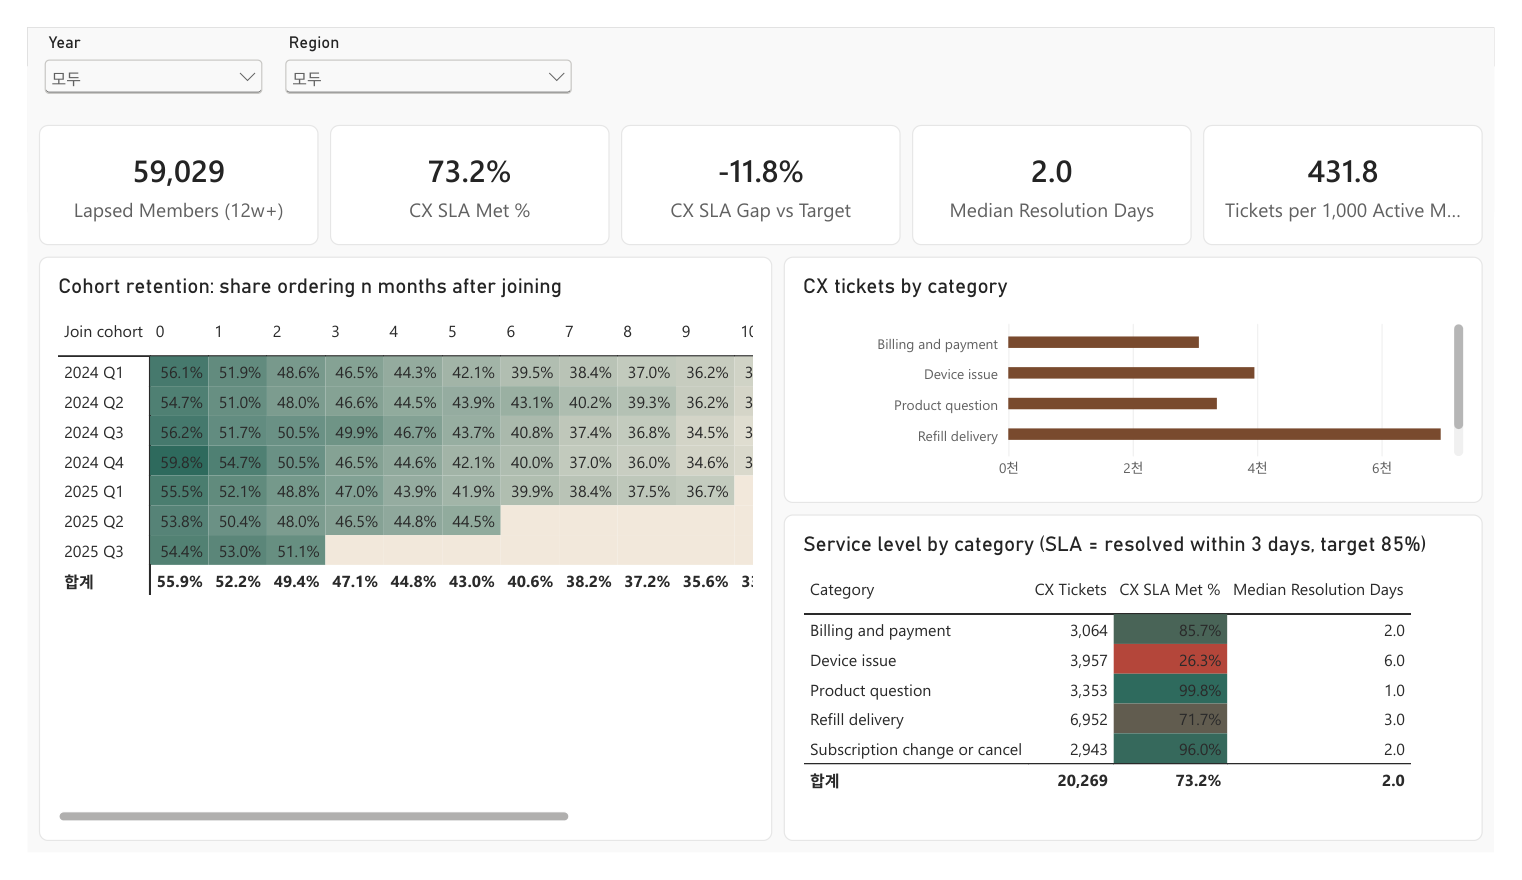

This screenshot's page, from the dashboard's own definition file:
{"tool":"powerbi","page":{"name":"3 Retention and CX","canvas":[1280,720],"ordinal":2},"visuals":[{"type":"slicer","fields":{"Values":["Dim Week.iso_year"]},"box":[10,5,200,75],"z":0},{"type":"slicer","fields":{"Values":["Dim Region.region_name"]},"box":[220,5,260,75],"z":1000},{"type":"card","fields":{"Values":["_Measures.Lapsed Members (12w+)"]},"box":[10,85,244,105],"z":2000},{"type":"card","fields":{"Values":["_Measures.CX SLA Met %"]},"box":[264,85,244,105],"z":3000},{"type":"card","fields":{"Values":["_Measures.CX SLA Gap vs Target"]},"box":[518,85,244,105],"z":4000},{"type":"card","fields":{"Values":["_Measures.Median Resolution Days"]},"box":[772,85,244,105],"z":5000},{"type":"card","fields":{"Values":["_Measures.Tickets per 1,000 Active Members"]},"box":[1026,85,244,105],"z":6000},{"type":"pivotTable","title":"Cohort retention: share ordering n months after joining","fields":{"Columns":["Fact Cohort Retention.months_since_join"],"Rows":["Fact Cohort Retention.join_cohort"],"Values":["_Measures.Retention %"]},"box":[10,200,640,510],"z":7000},{"type":"clusteredBarChart","title":"CX tickets by category","fields":{"Category":["Fact CX Tickets.category"],"Y":["_Measures.CX Tickets"]},"box":[660,200,610,215],"z":8000},{"type":"tableEx","title":"Service level by category (SLA = resolved within 3 days, target 85%)","fields":{"Values":["Fact CX Tickets.category","_Measures.CX Tickets","_Measures.CX SLA Met %","_Measures.Median Resolution Days"]},"box":[660,425,610,285],"z":9000}]}

Visuals, with their boxes in screenshot pixels (x1, y1, x2, y2), scaled from the page's 1280x720 canvas onto the 1522x880 screenshot:
slicer - Dim Week.iso_year: 12, 6, 250, 98
slicer - Dim Region.region_name: 262, 6, 571, 98
card - _Measures.Lapsed Members (12w+): 12, 104, 302, 232
card - _Measures.CX SLA Met %: 314, 104, 604, 232
card - _Measures.CX SLA Gap vs Target: 616, 104, 906, 232
card - _Measures.Median Resolution Days: 918, 104, 1208, 232
card - _Measures.Tickets per 1,000 Active Members: 1220, 104, 1510, 232
"Cohort retention: share ordering n months after joining" pivotTable: 12, 244, 773, 868
"CX tickets by category" clusteredBarChart: 785, 244, 1510, 507
"Service level by category (SLA = resolved within 3 days, target 85%)" tableEx: 785, 519, 1510, 868
